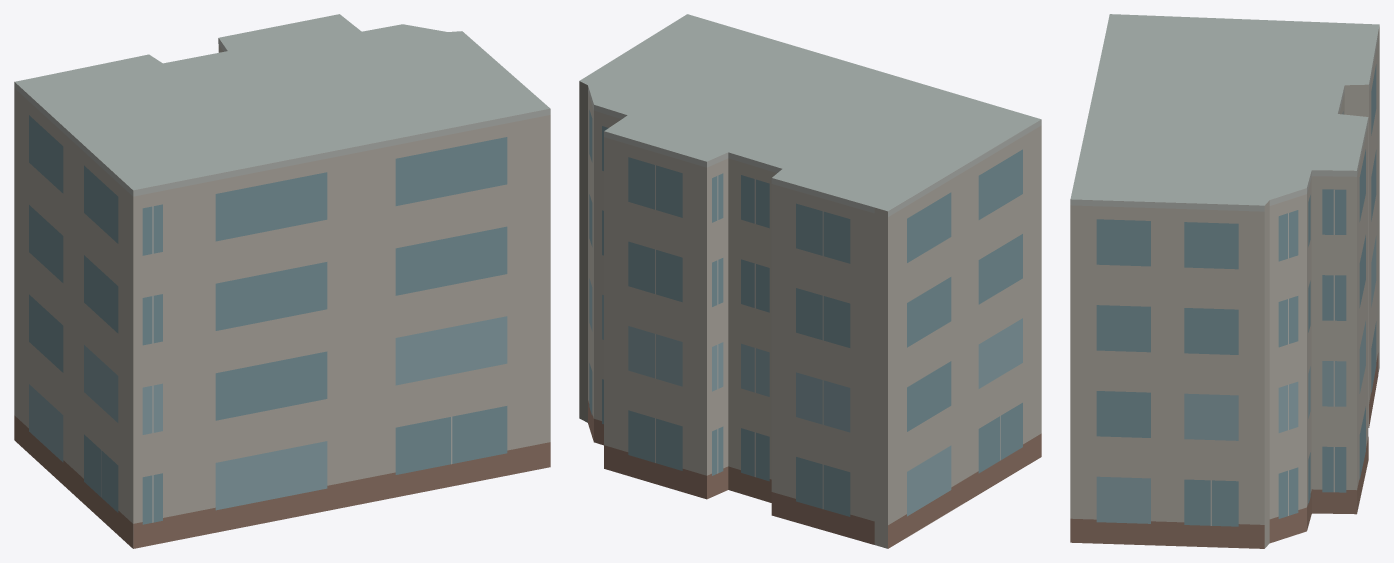
File: survey-upis-32585103.glb
3 renders of one model, left to right at view 1: azimuth 30°, elevation 25°; view 2: azimuth 150°, elevation 25°; view 3: azimuth 270°, elevation 25°, orthographic. The views are drawn at different scales.
Visible parts, largest first — view 1: survey-upis-32585103.tmp; view 2: survey-upis-32585103.tmp; view 3: survey-upis-32585103.tmp.
Boxes of the visible parts, left/top/right/bottom form: survey-upis-32585103.tmp: left=14, top=14, right=550, bottom=548; survey-upis-32585103.tmp: left=579, top=14, right=1041, bottom=548; survey-upis-32585103.tmp: left=1070, top=14, right=1379, bottom=548.
Size of the model in its own units: 16.65 by 13.9 by 11.36.
